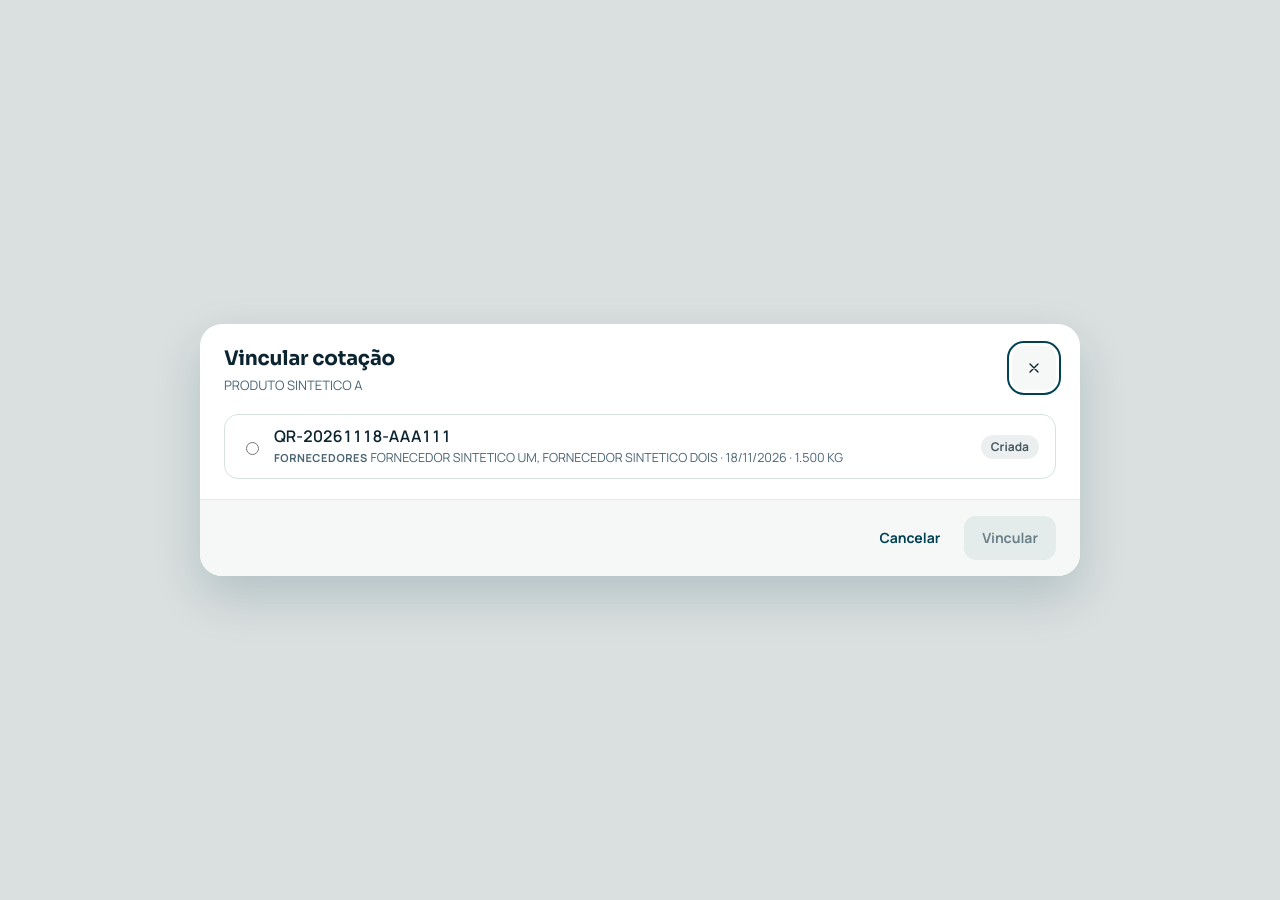
Test: ForecastVincularCotacaoModal › erro 409 mostra a mensagem em role="alert" e mantem o modal aberto
What coordinates should you click on to do the following:
click the radio button labelled "QR-20261118-AAA111"
I would click on:
 (252, 448)
Its box is x1=246 y1=442 x2=259 y2=454.
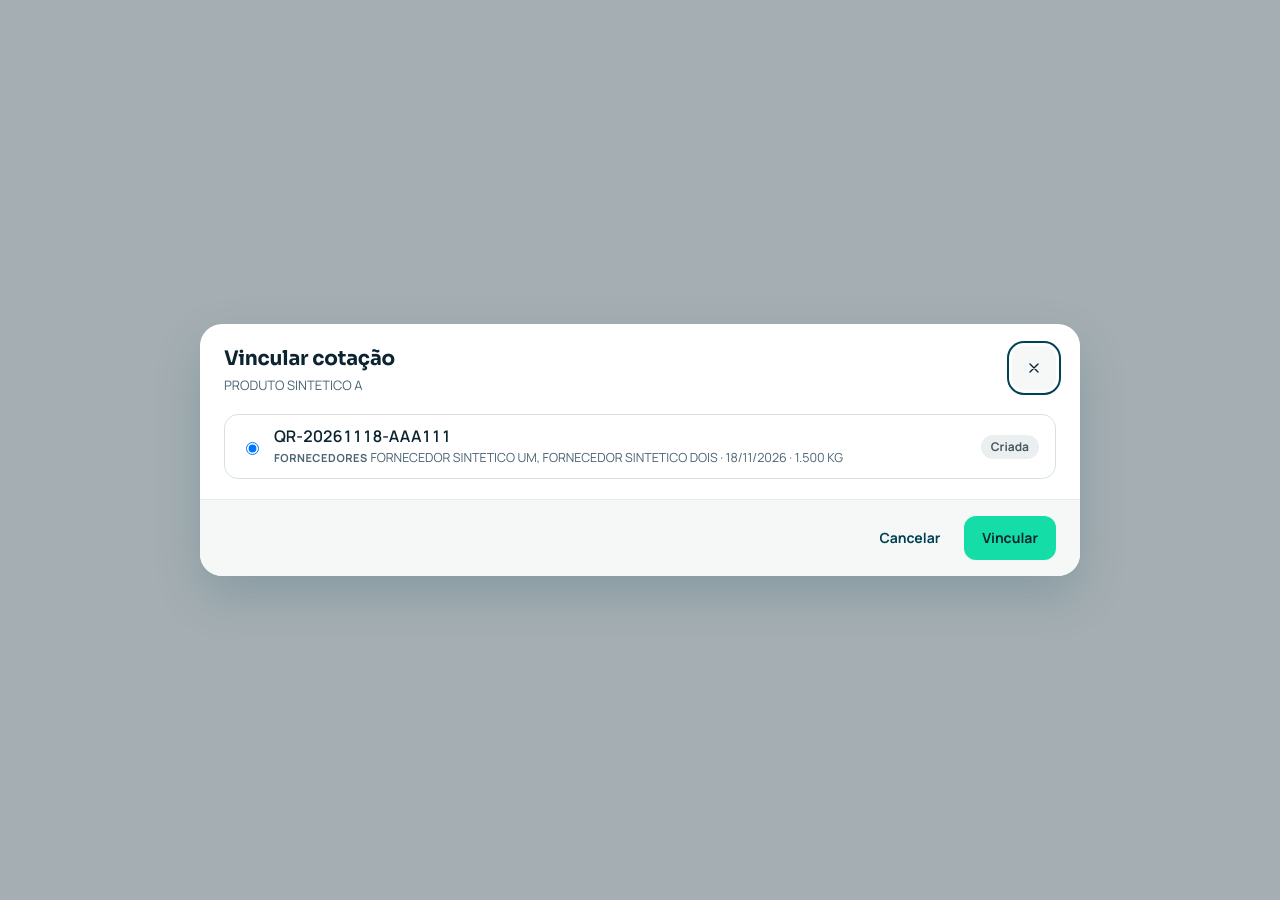
What coordinates should you click on to do the following:
click the button "Vincular"
I would click on:
 (1010, 538)
Its box is x1=964 y1=516 x2=1056 y2=560.
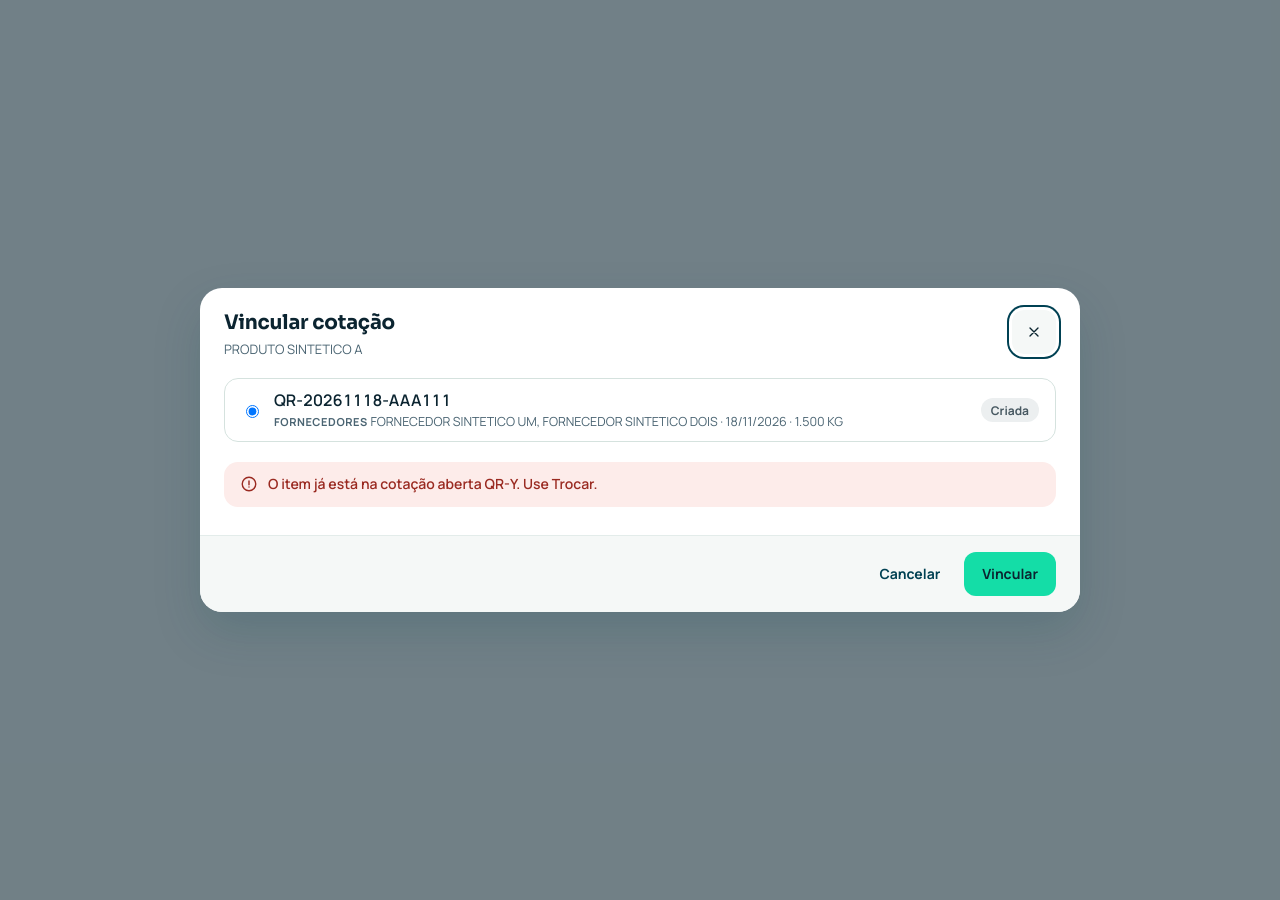
Expected: the button "Vincular" is shown, x1=964 y1=552 x2=1056 y2=596
Result: the message reads "O item já está na cotação aberta QR-Y. Use Trocar." at x1=268 y1=474 x2=597 y2=493
